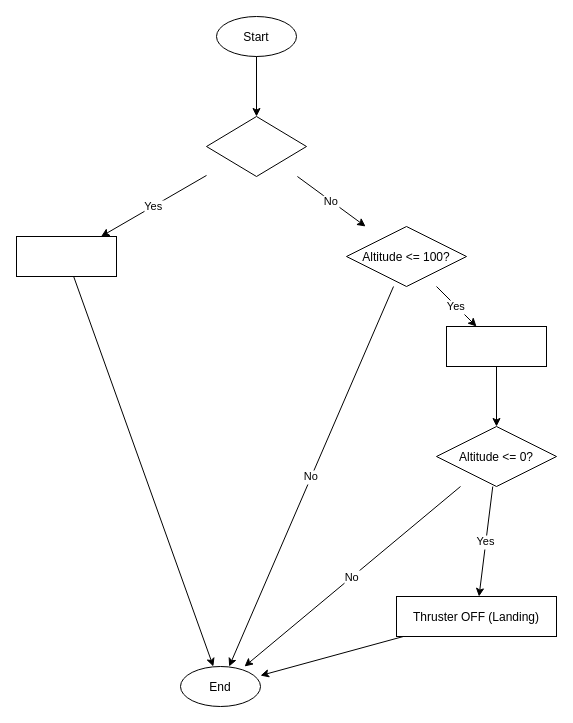
Some shapes in this 573 by 723 pixel diagram are drawn without their labels. The centre of each missing label's shape, as x and y in pixels:
Altitude > 100?: pixel 256 146
Thruster OFF: pixel 66 256
Thruster ON: pixel 496 346
